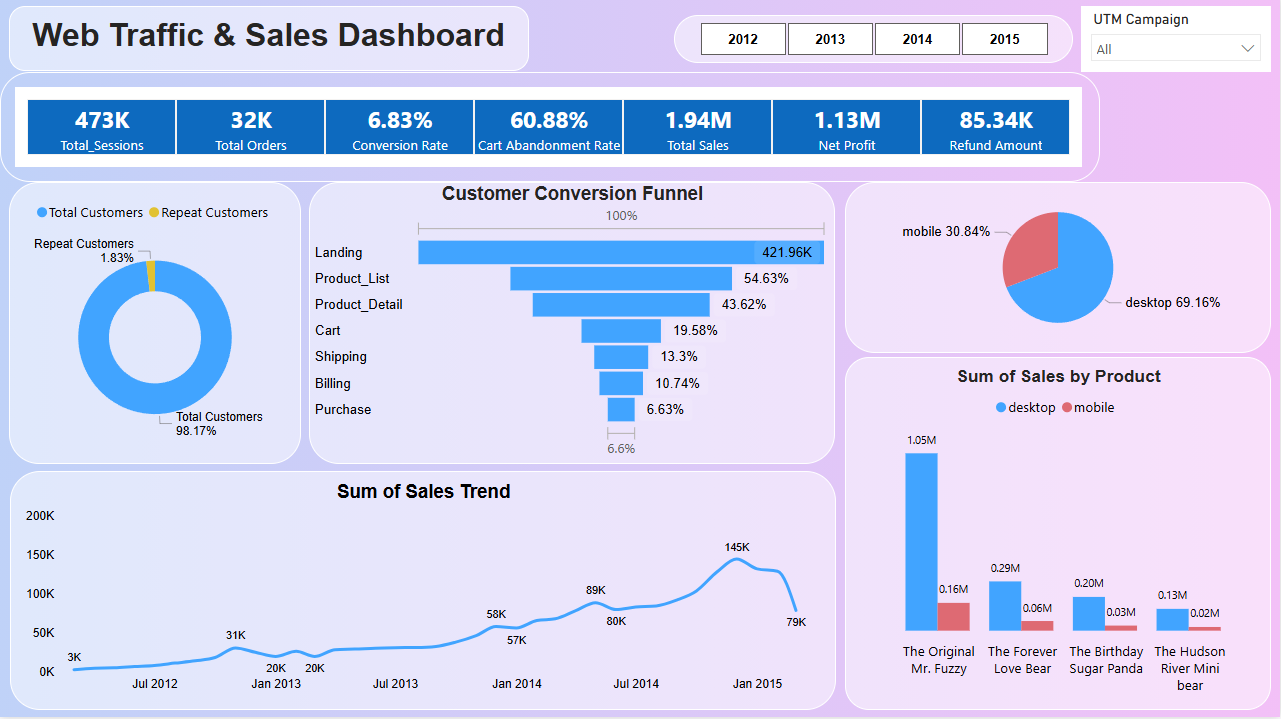

The page's visual inventory and layout, read from the dashboard file:
{"tool":"powerbi","page":{"name":"Page 1","canvas":[1280,720],"ordinal":0},"visuals":[{"type":"clusteredColumnChart","title":"Sum of Sales by Product","fields":{"Category":["products.product_name"],"Y":["Sum(order_items.price_usd)"],"Series":["Web_session.Device Type"]},"box":[844.6,360,426.3,352.9],"z":0},{"type":"funnel","title":"Customer Conversion Funnel","fields":{"Category":["website_pageviews.Funnel Stage"],"Y":["CountNonNull(website_pageviews.Funnel Stage)"]},"box":[308.7,185,525.9,281.5],"z":1000},{"type":"donutChart","fields":{"Y":["orders.Total Customers","orders.Repeat Customers"]},"box":[9,185,291.6,281.5],"z":2000},{"type":"pieChart","fields":{"Category":["Web_session.device_type"],"Y":["Web_session.Total_Sessions"]},"box":[845,185,425.9,171.3],"z":3000},{"type":"lineChart","title":"Sum of Sales Trend","fields":{"Category":["orders.created_at.Variation.Date Hierarchy.Year","orders.created_at.Variation.Date Hierarchy.Quarter","orders.created_at.Variation.Date Hierarchy.Month"],"Y":["Sum(orders.price_usd)"]},"box":[10.1,473.6,825.5,239.3],"z":4000},{"type":"slicer","fields":{"Values":["Web_session.utm_campaign"]},"box":[1081.3,9.1,189.5,66.2],"z":5000},{"type":"textbox","box":[9.1,9.1,519.5,65.1],"z":6000},{"type":"cardVisual","fields":{"Data":["Web_session.Total_Sessions","orders.Total Orders","orders.Conversion Rate","website_pageviews.Cart Abandonment Rate","Sum(orders.price_usd)1","orders.Net Profit","Sum(order_item_refunds.refund_amount_usd)"]},"box":[0,75.4,1099.6,109.6],"z":7000},{"type":"slicer","fields":{"Values":["orders.created_at.Variation.Date Hierarchy.Year"]},"box":[673.7,18.3,399.6,48],"z":8000}]}

Visuals, with their boxes in screenshot pixels (x1, y1, x2, y2), scaled from the page's 1280x720 canvas onto the 1281x719 screenshot:
"Sum of Sales by Product" clusteredColumnChart: detection(845, 360, 1272, 712)
"Customer Conversion Funnel" funnel: detection(309, 185, 835, 466)
donutChart - orders.Total Customers x orders.Repeat Customers: detection(9, 185, 301, 466)
pieChart - Web_session.device_type x Web_session.Total_Sessions: detection(846, 185, 1272, 356)
"Sum of Sales Trend" lineChart: detection(10, 473, 836, 712)
slicer - Web_session.utm_campaign: detection(1082, 9, 1272, 75)
textbox: detection(9, 9, 529, 74)
cardVisual - Web_session.Total_Sessions x orders.Total Orders: detection(0, 75, 1100, 185)
slicer - orders.created_at.Variation.Date Hierarchy.Year: detection(674, 18, 1074, 66)
